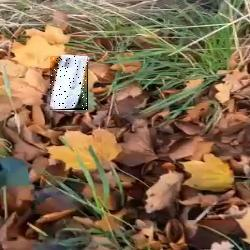restaffald: (50, 56, 88, 110)
